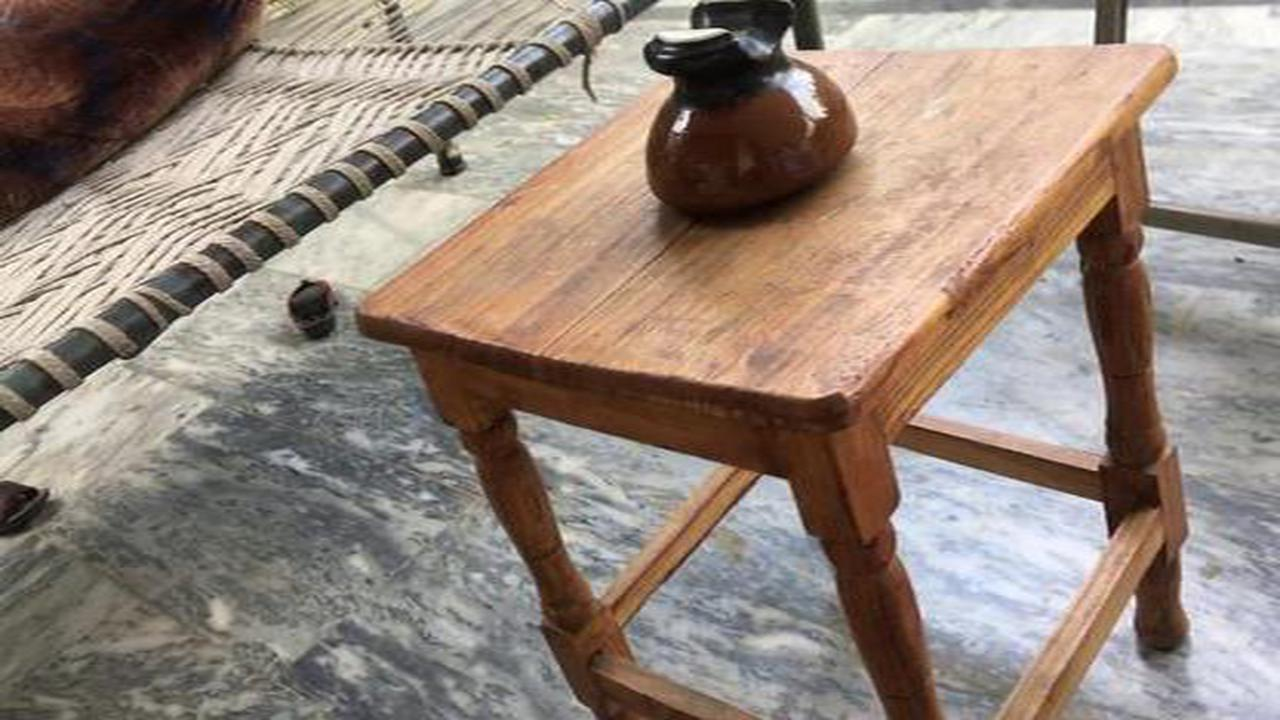insulator_pin: (610, 2, 881, 229)
